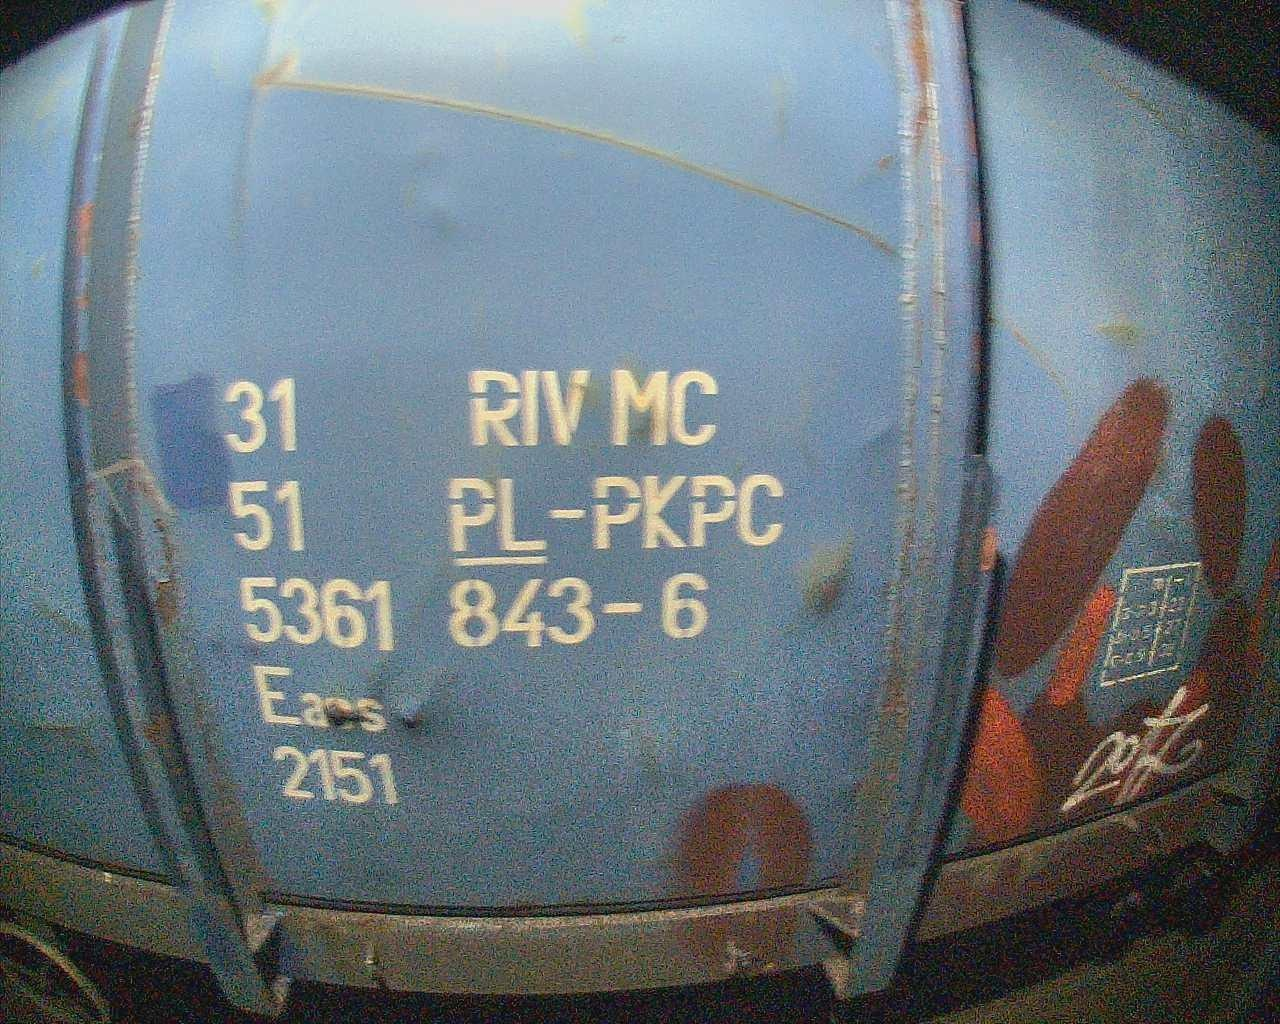UIC: (223, 363, 789, 811)
